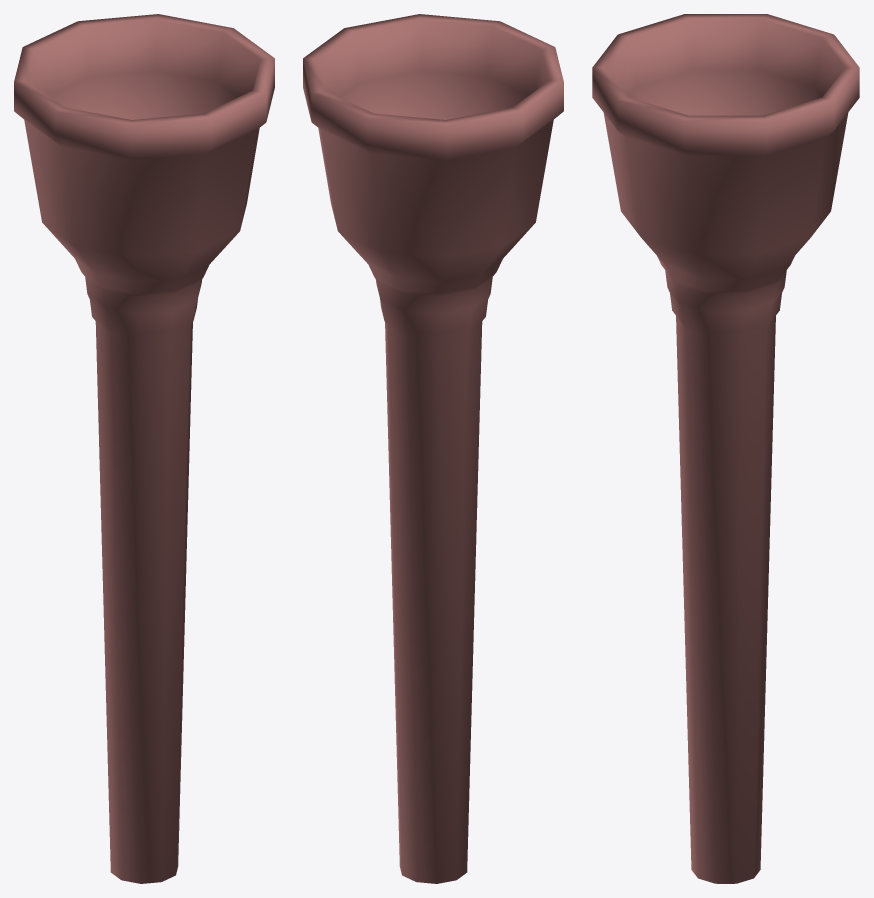
The model's file is obor.fbx.
3 renders of one model, left to right at view 1: azimuth 30°, elevation 25°; view 2: azimuth 150°, elevation 25°; view 3: azimuth 270°, elevation 25°, orthographic.
Parts seen in each view (by area): view 1: Cylinder; view 2: Cylinder; view 3: Cylinder.
Part boxes in pixels (x1,y1,x2,y2): Cylinder: (14,14,274,883); Cylinder: (303,14,563,883); Cylinder: (592,14,859,883).
Size of the model in its own units: 62.43 by 219 by 65.64.
